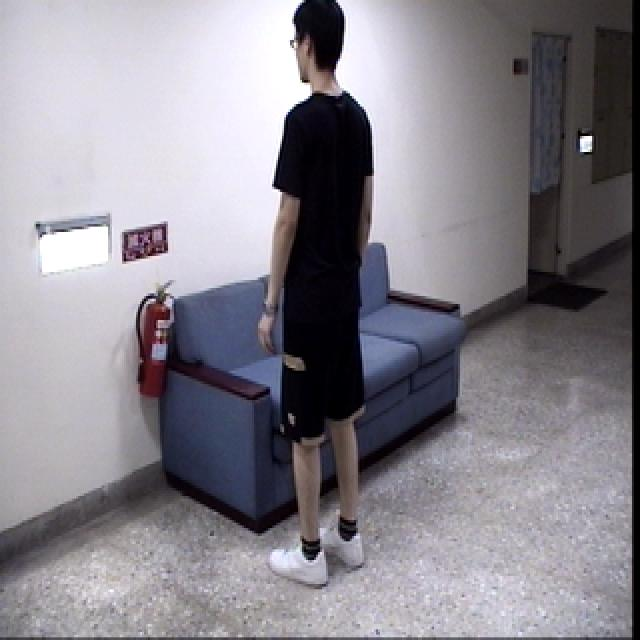stand: (240, 0, 402, 595)
